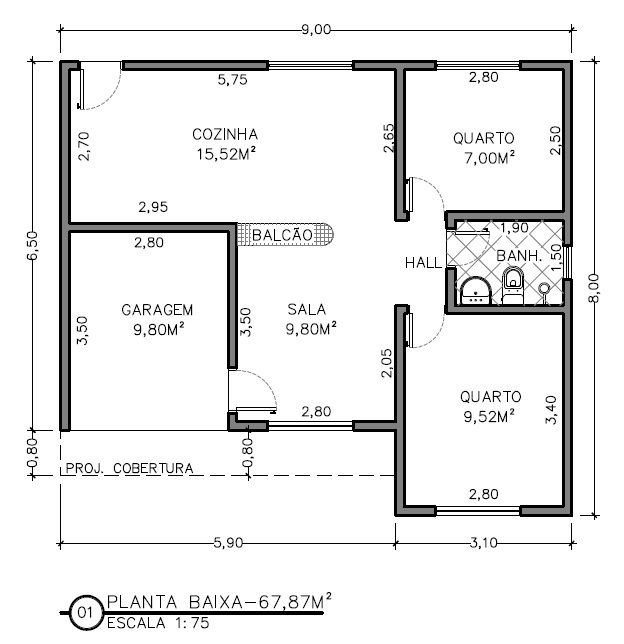door: (219, 362, 288, 420), (73, 58, 129, 121), (404, 294, 454, 354), (408, 169, 450, 216)
room: (52, 63, 415, 236), (232, 228, 402, 436), (62, 221, 229, 422), (399, 310, 566, 506), (403, 67, 579, 212), (446, 214, 571, 310)
wall: (51, 57, 83, 433), (61, 214, 241, 249), (388, 294, 414, 515), (558, 275, 577, 522), (556, 53, 580, 248), (122, 58, 270, 83), (223, 221, 247, 368), (350, 50, 438, 80), (516, 493, 578, 522), (350, 411, 409, 440), (395, 495, 445, 522), (518, 58, 575, 79), (226, 408, 272, 433)
window: (439, 499, 524, 525), (438, 54, 518, 81), (268, 55, 349, 80), (271, 418, 354, 439), (561, 244, 580, 281)
